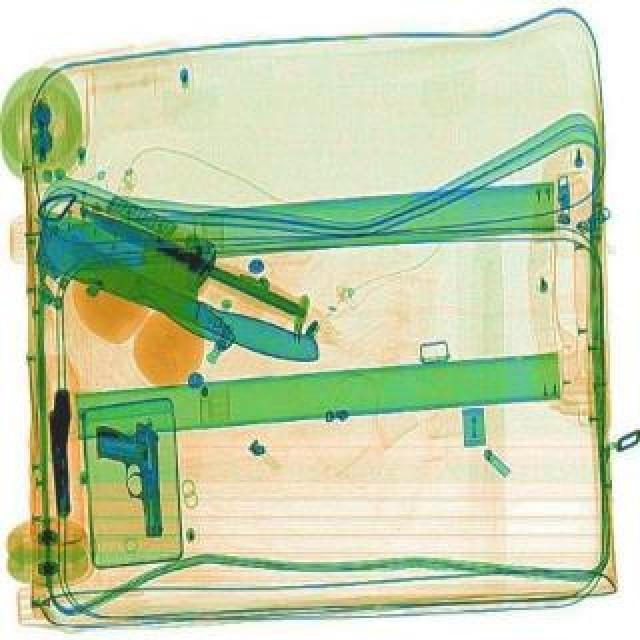gun: (94, 414, 164, 538), (48, 384, 72, 518)
knife: (14, 194, 340, 376), (22, 198, 242, 356), (74, 198, 300, 314)
